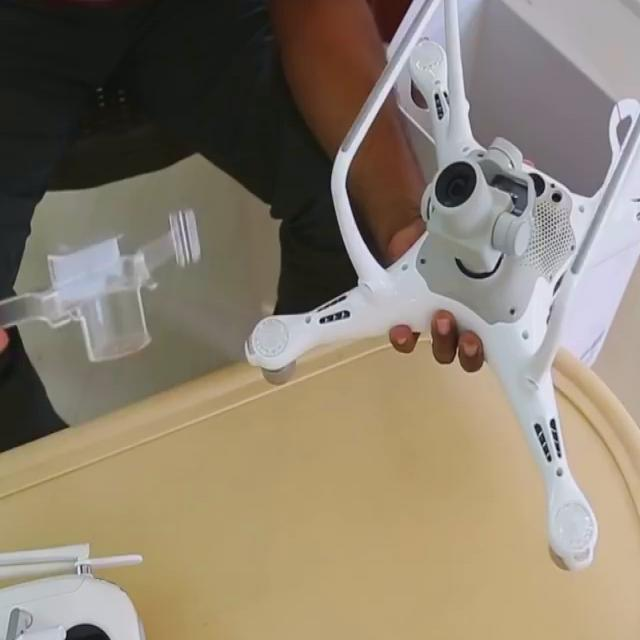drone: (231, 18, 640, 569)
